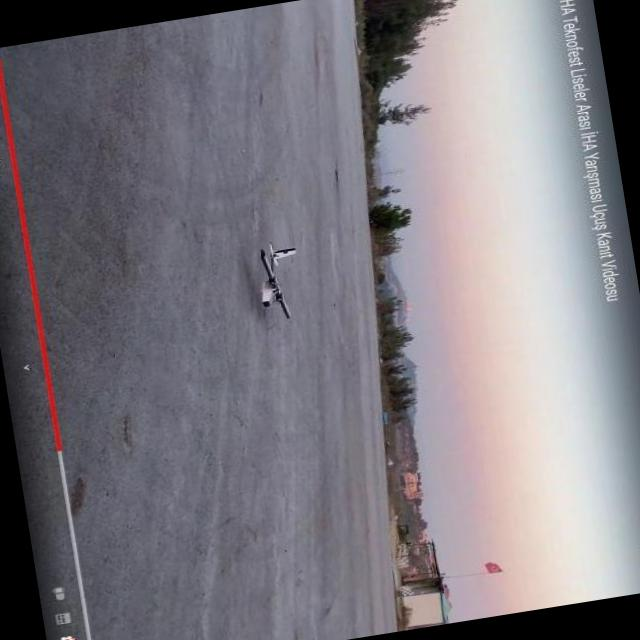UAV: (227, 224, 341, 346)
